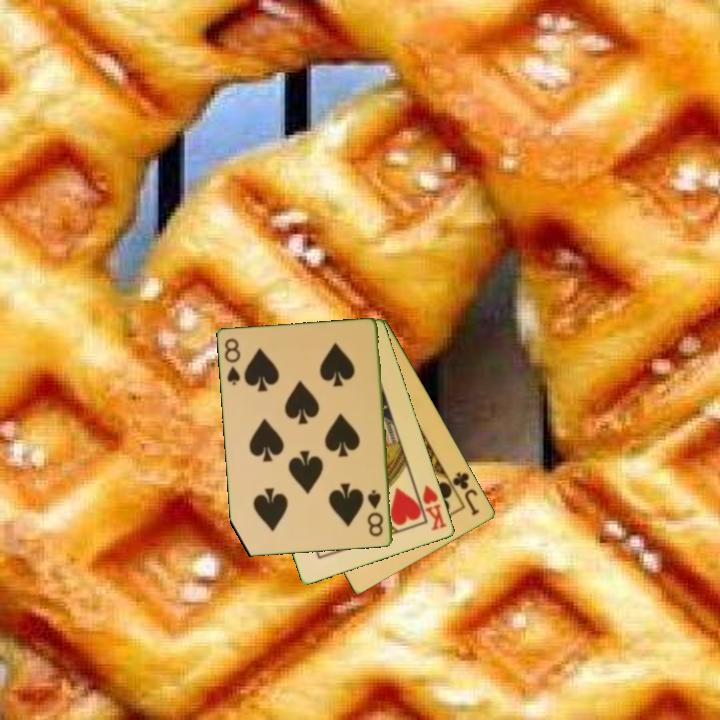8s: (221, 335, 244, 389), (364, 486, 386, 540)
Jc: (449, 468, 483, 518)
Kh: (412, 482, 450, 534)
